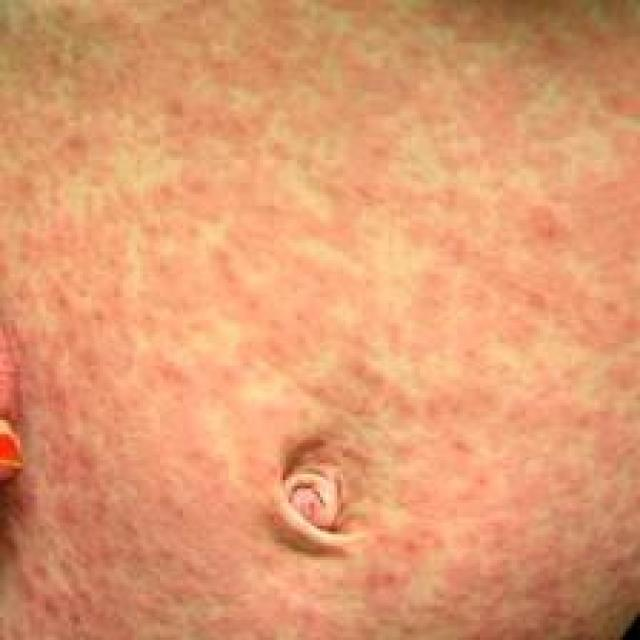others: (17, 0, 640, 609)
